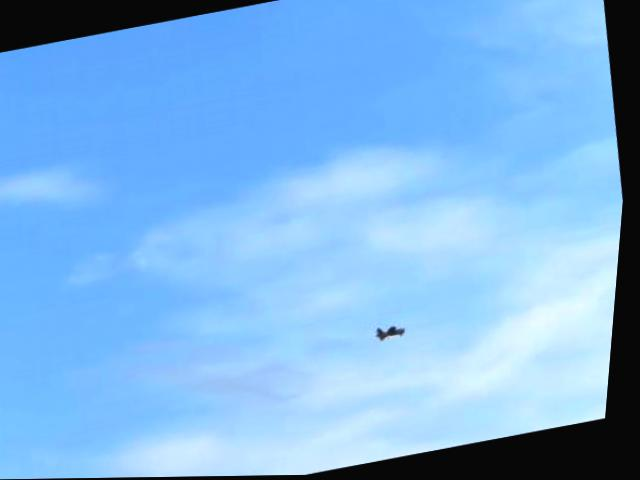uav: (374, 317, 418, 349)
